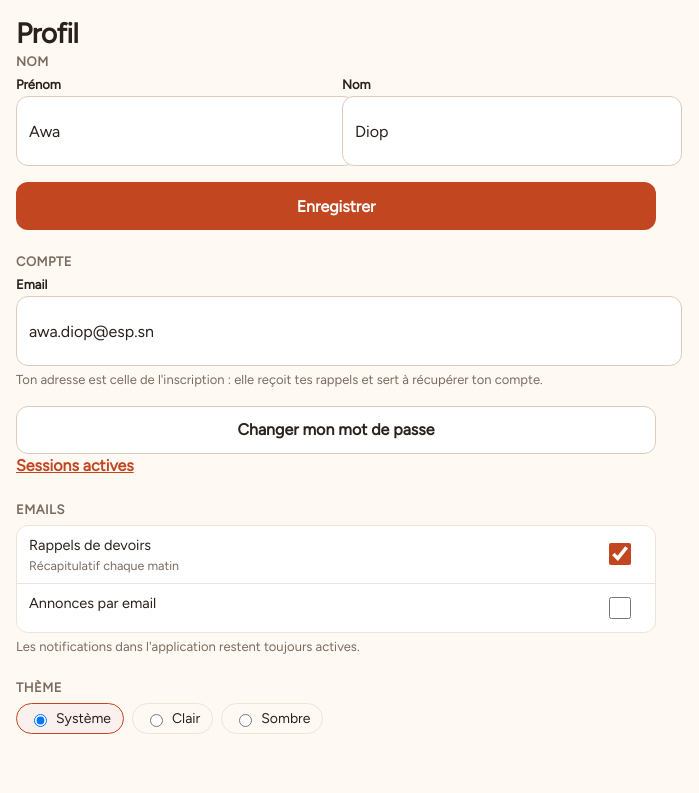
Test case: profil (P10, M14) › préférences d’email enregistrées au choix
Expected: the heading "Profil" is shown, [16, 16, 78, 50]
What coordinates should you click on to do the following:
click the checkbox labelled "Annonces par email"
I would click on:
 (620, 608)
Its box is [600, 596, 640, 618].
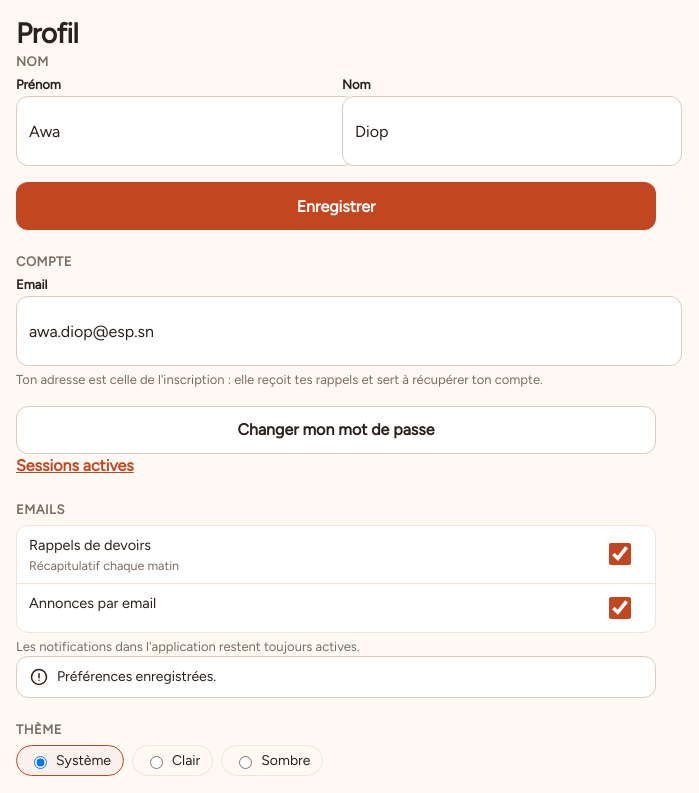
Result: the text "Préférences enregistrées." is shown at [57, 667, 216, 687]
